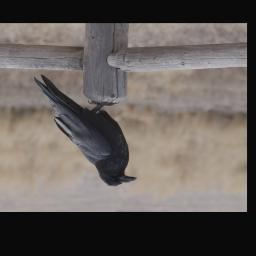Crow: (32, 73, 138, 188)
